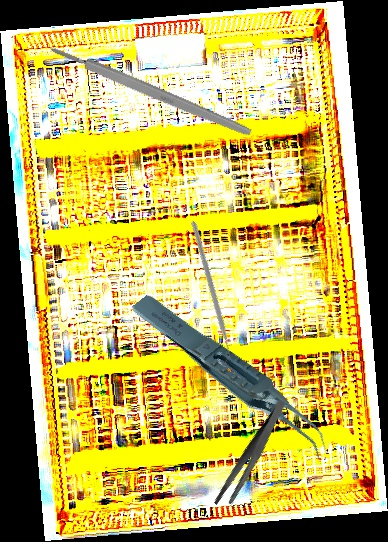Chopper: (134, 220, 283, 367)
Dressing Forceps: (193, 398, 310, 513)
Scalpel Handle: (48, 41, 254, 140)
Tissue Forceps: (130, 262, 333, 494)
